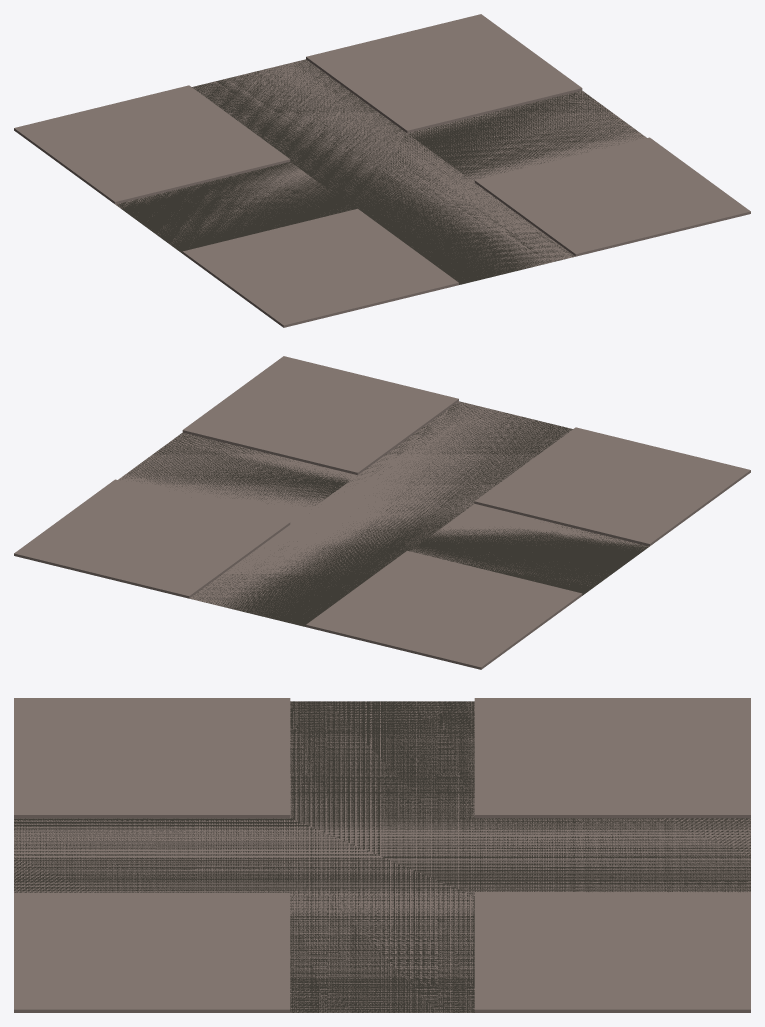
The model's file is Env_Street_Cross.fbx.
The picture shows the model from 3 angles, top to bottom: view 1: azimuth 30°, elevation 25°; view 2: azimuth 150°, elevation 25°; view 3: azimuth 270°, elevation 25°; orthographic projection. The views are drawn at different scales.
Parts seen in each view (by area): view 1: Env_Street_Cross; view 2: Env_Street_Cross; view 3: Env_Street_Cross.
Part boxes in pixels (left/top/right/bottom): Env_Street_Cross: left=14, top=14, right=750, bottom=327; Env_Street_Cross: left=14, top=356, right=750, bottom=669; Env_Street_Cross: left=14, top=698, right=750, bottom=1012.
Size of the model in its own units: 2000 by 10 by 2000.
